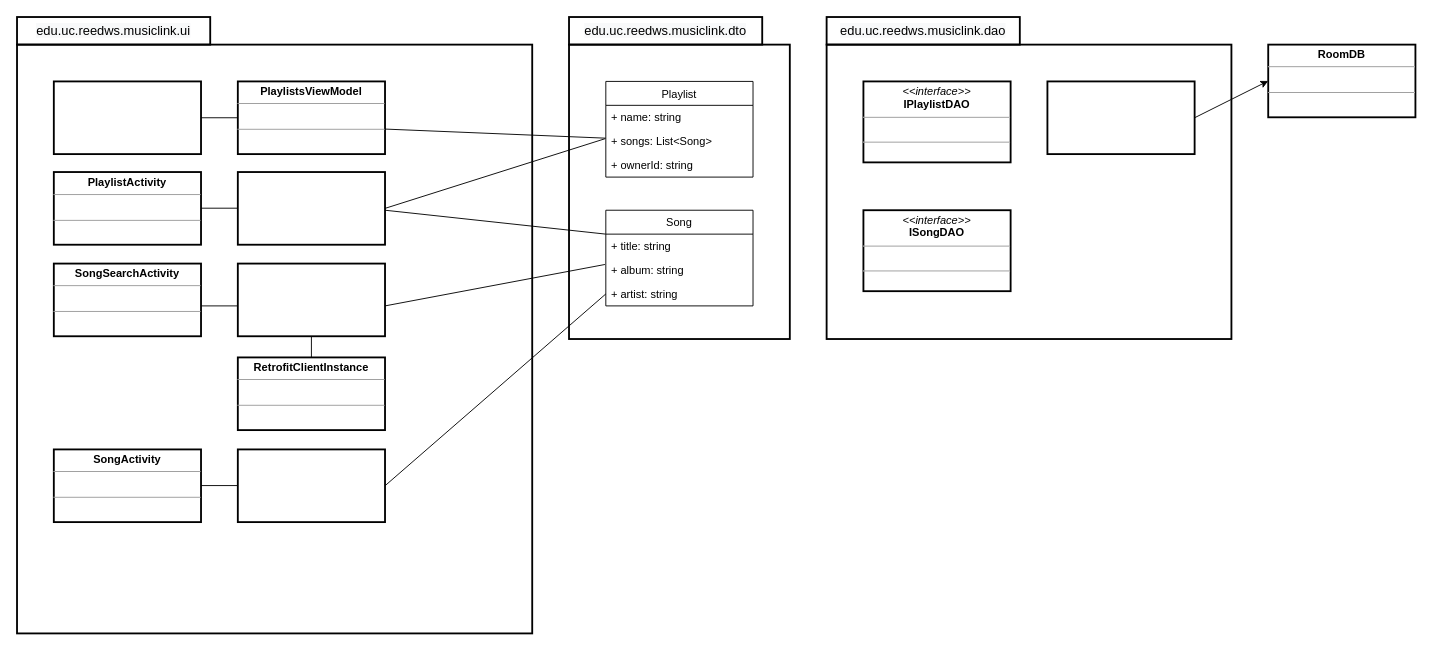
The diagram is 1432 pixels wide and 650 high, and some of its shapes have lost their labels. Each missing label, with the centre of its shape:
"AppDatabase" goes at [1120,117].
"Playlist ViewModel" goes at [310,208].
"PlaylistsActivity" goes at [126,117].
"Song ViewModel" goes at [310,485].
"SongSearch ViewModel" goes at [310,299].
